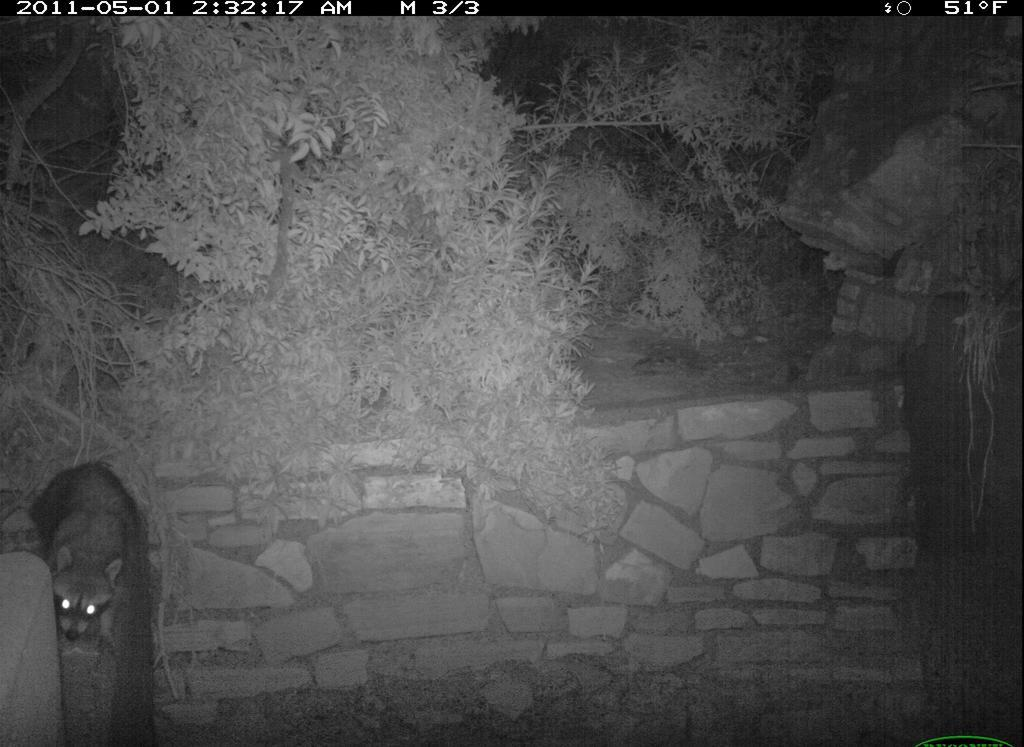raccoon: (17, 456, 161, 664)
